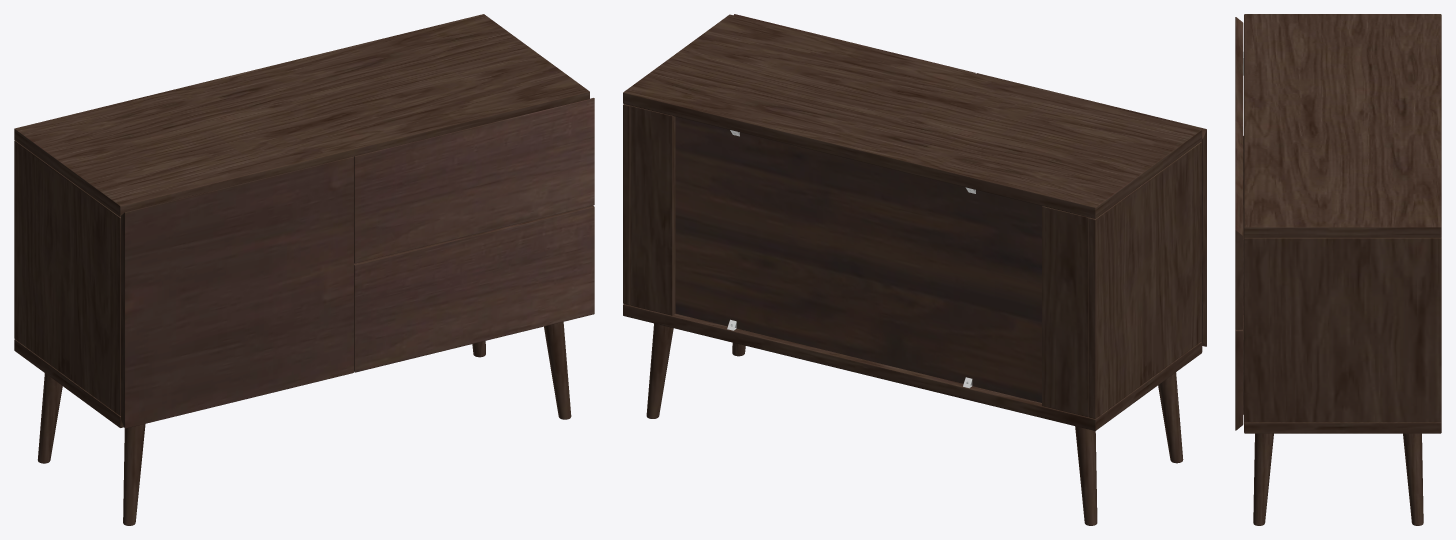
The model's file is abo-B07QF9QCYS.glb.
3 renders of one model, left to right at view 1: azimuth 30°, elevation 25°; view 2: azimuth 150°, elevation 25°; view 3: azimuth 270°, elevation 25°, orthographic. The views are drawn at different scales.
Bounding box in the file's own units: 0.99 × 0.66 × 0.405.
1 material, 1 textured.
